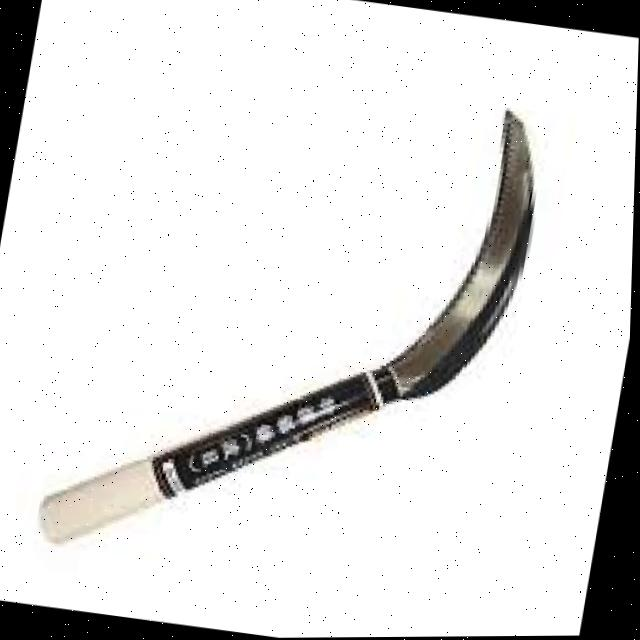sickle: (23, 43, 591, 618)
